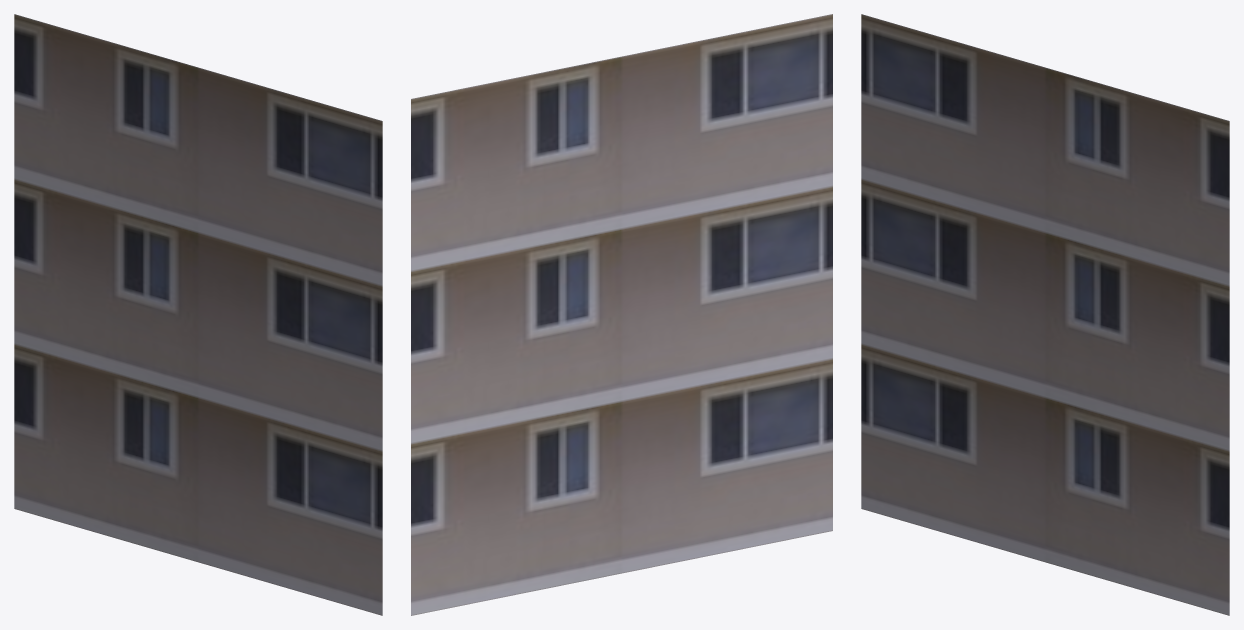
File: ResTex__2950.fbx
3 views of the same model, side by side, from view 1: azimuth 90°, elevation 25°; view 2: azimuth 150°, elevation 25°; view 3: azimuth 270°, elevation 25° (orthographic). The views are drawn at different scales.
Parts seen in each view (by area): view 1: CityEngineMaterial_21_m; view 2: CityEngineMaterial_21_m; view 3: CityEngineMaterial_21_m.
Part boxes in pixels (bbox=[...]): CityEngineMaterial_21_m: bbox=[14, 14, 382, 615]; CityEngineMaterial_21_m: bbox=[411, 14, 832, 615]; CityEngineMaterial_21_m: bbox=[861, 14, 1229, 615].
Size of the model in its own units: 4.18 by 9 by 6.07.
1 material, 1 textured.
